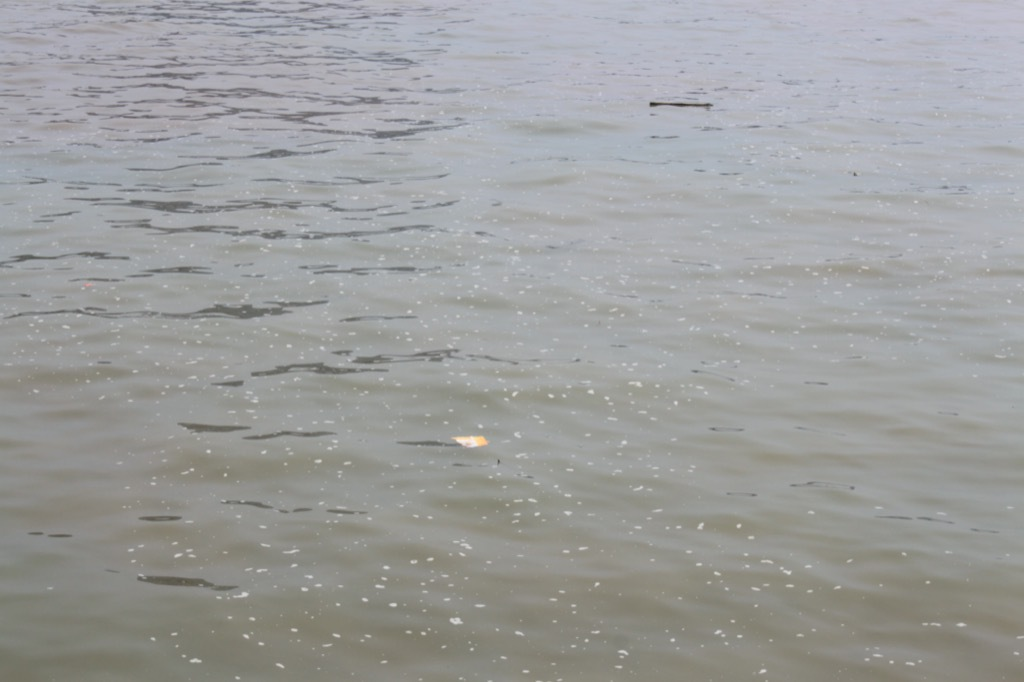organic: (632, 87, 730, 123), (838, 163, 873, 190)
plastic: (448, 430, 491, 453)
